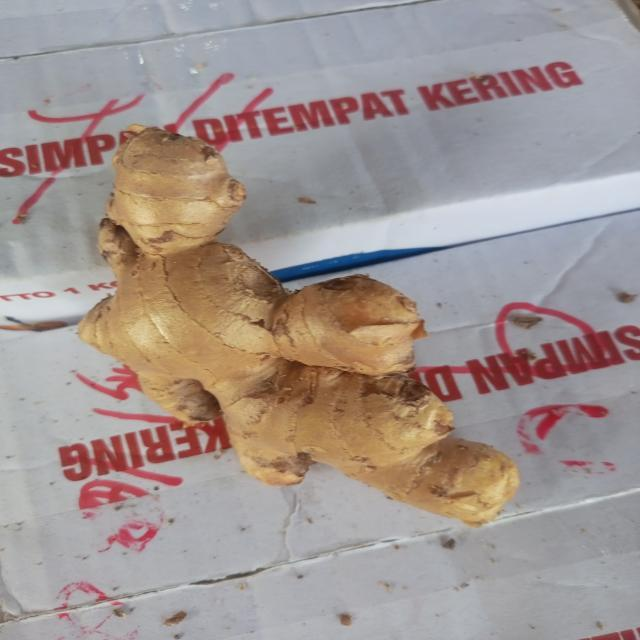ginger: (89, 128, 516, 526)
